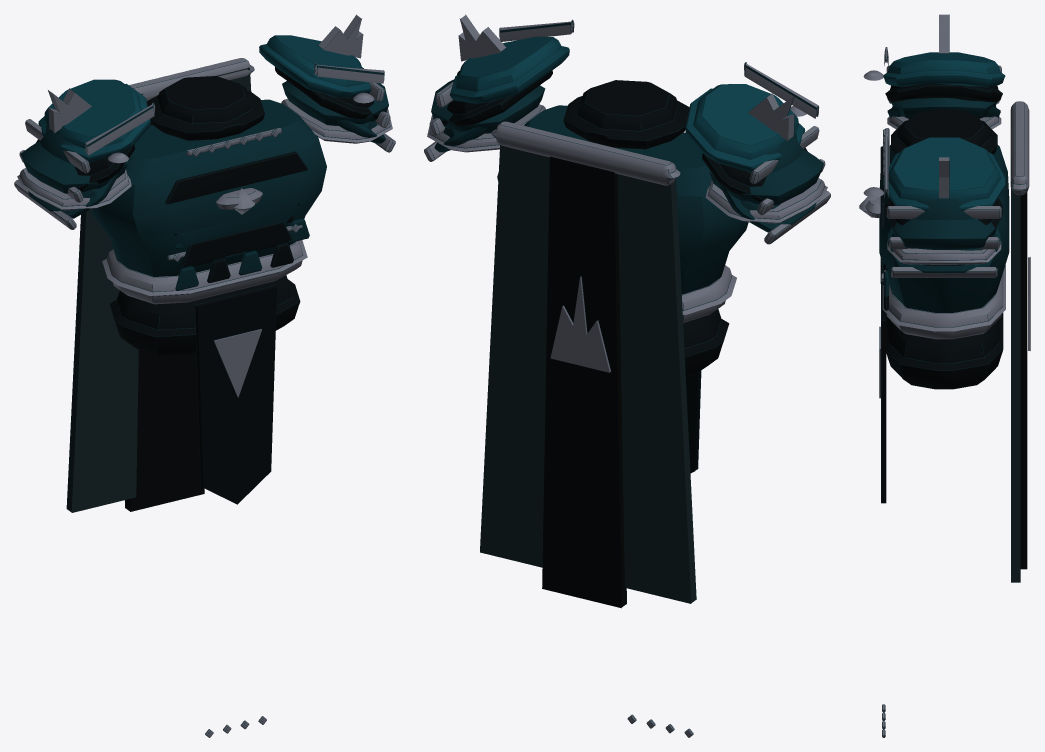
File: Trama_Armadura.fbx
The picture shows the model from 3 angles, left to right: view 1: azimuth 30°, elevation 25°; view 2: azimuth 150°, elevation 25°; view 3: azimuth 270°, elevation 25°; orthographic projection. The views are drawn at different scales.
Visible parts, largest first — view 1: Piece; view 2: Piece; view 3: Piece.
Part boxes in pixels (x1,y1,x2,y2): Piece: [14, 14, 395, 737]; Piece: [424, 14, 830, 737]; Piece: [859, 14, 1030, 737].
Bounding box in the file's own units: 0.8939 × 1.58 × 0.3847.
